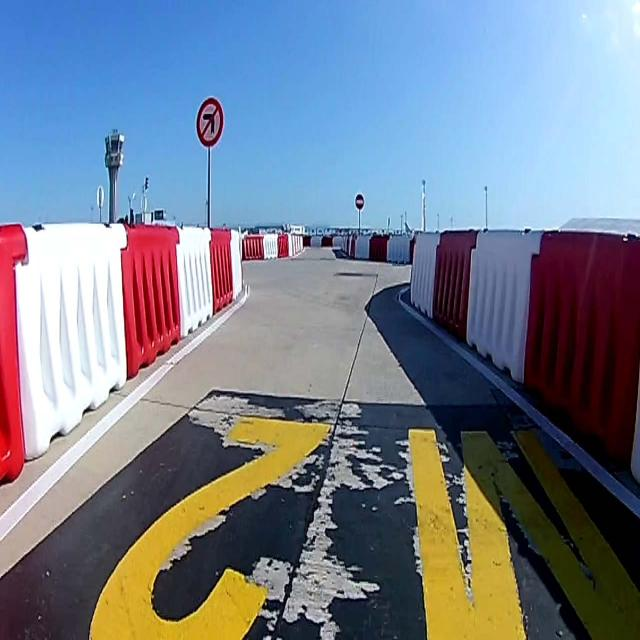girisyok: (354, 191, 366, 211)
soladonulmez: (196, 98, 224, 146)
